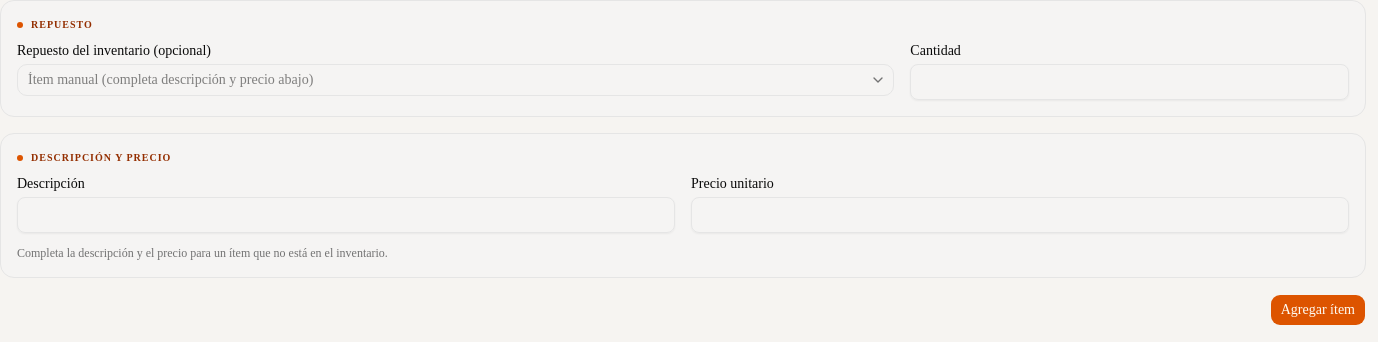
Scenario: AgregarItemForm › hides Descripción and prefills Precio unitario with the repuesto's suggested price when a repuesto is selected
Click the dropdown labelled "Repuesto del inventario (opcional)" at (456, 80), box [17,64,894,96]
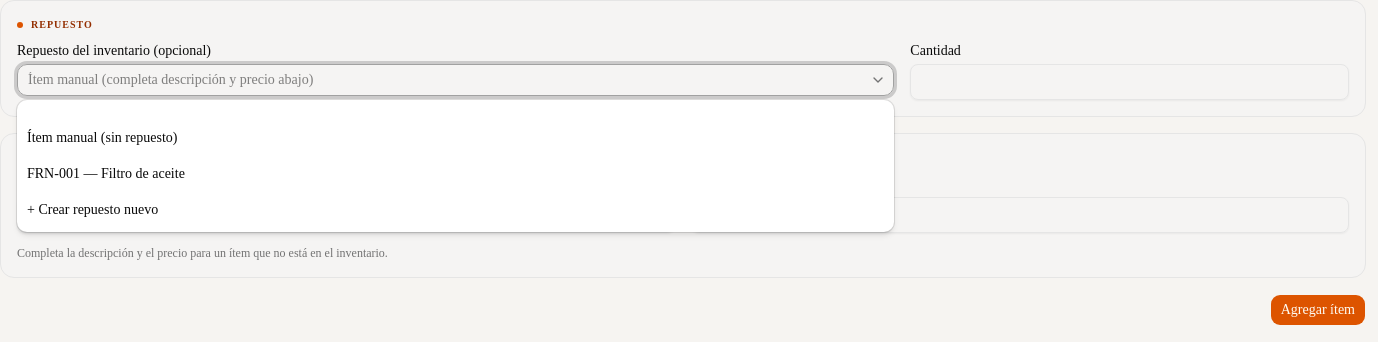
Click the option "FRN-001 — Filtro de aceite" at (106, 174), box [27,166,185,181]
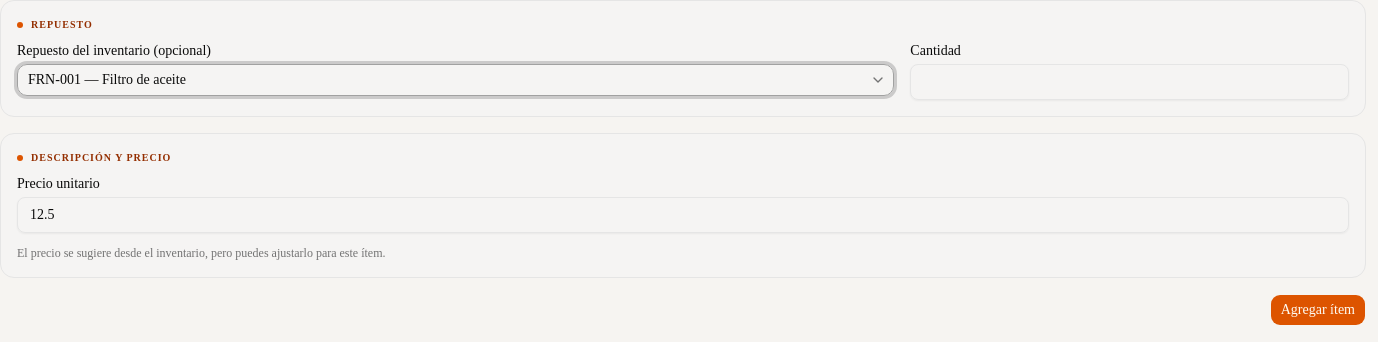
Result: the number field labelled "Precio unitario" holds "12.5" at [17,197,1349,233]
